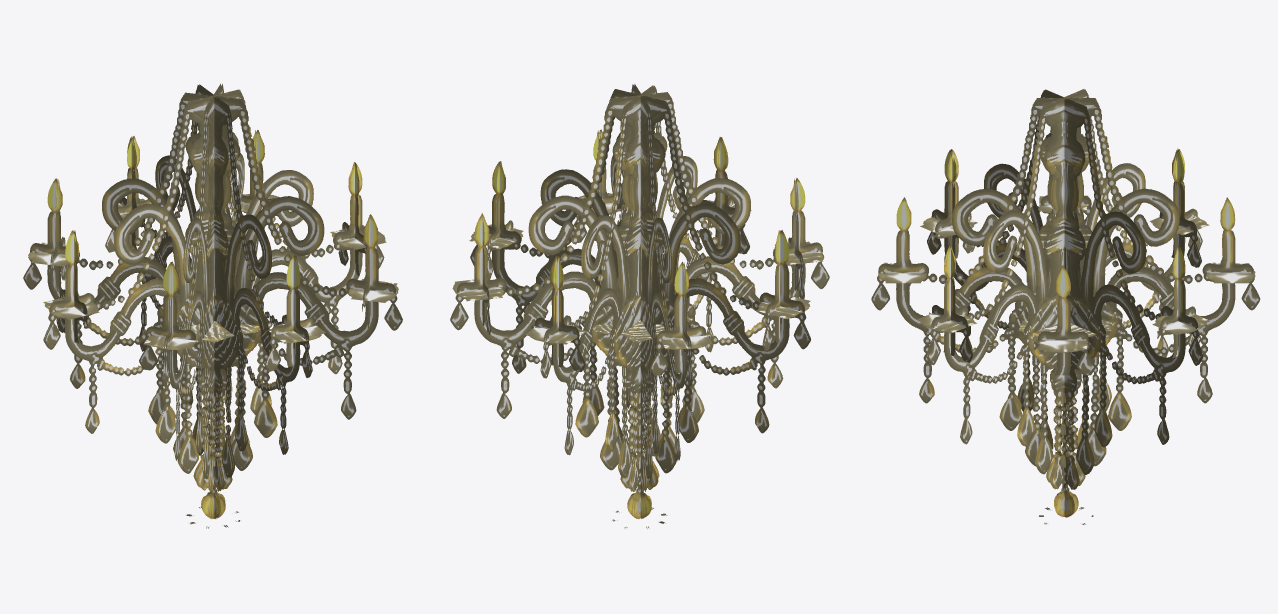
File: ChandalierPLANE.fbx
3 views of the same model, side by side, from view 1: azimuth 30°, elevation 25°; view 2: azimuth 150°, elevation 25°; view 3: azimuth 270°, elevation 25° (orthographic).
Visible parts, largest first — view 1: ChandalierPLANE; view 2: ChandalierPLANE; view 3: ChandalierPLANE.
Part boxes in pixels (x1=…): ChandalierPLANE: x1=23, y1=83, x2=402, y2=528; ChandalierPLANE: x1=450, y1=84, x2=829, y2=528; ChandalierPLANE: x1=871, y1=89, x2=1260, y2=524.
Bounding box in the file's own units: 200 × 233 × 200.
